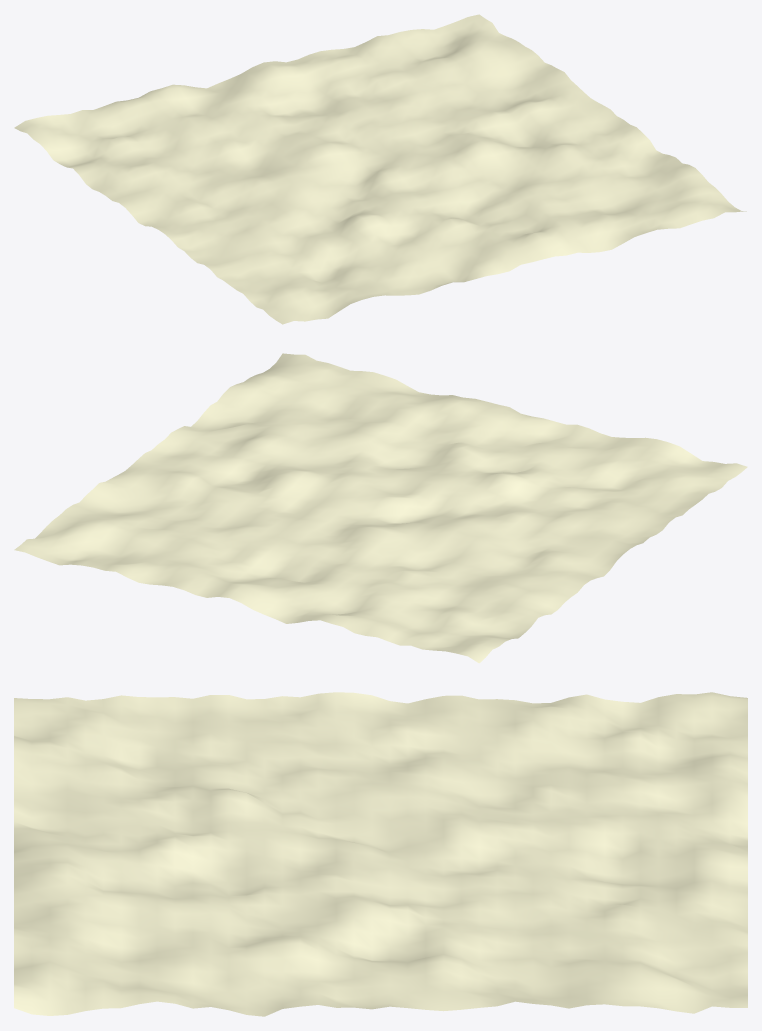
Rendered from Seafloor.fbx.
3 renders of one model, top to bottom at view 1: azimuth 30°, elevation 25°; view 2: azimuth 150°, elevation 25°; view 3: azimuth 270°, elevation 25°, orthographic. The views are drawn at different scales.
Visible parts, largest first — view 1: SeaFloor; view 2: SeaFloor; view 3: SeaFloor.
Part boxes in pixels (x1,y1,x2,y2): SeaFloor: [14, 14, 746, 324]; SeaFloor: [14, 353, 747, 663]; SeaFloor: [14, 692, 747, 1016].
Size of the model in its own units: 1321 by 1321 by 54.06.
